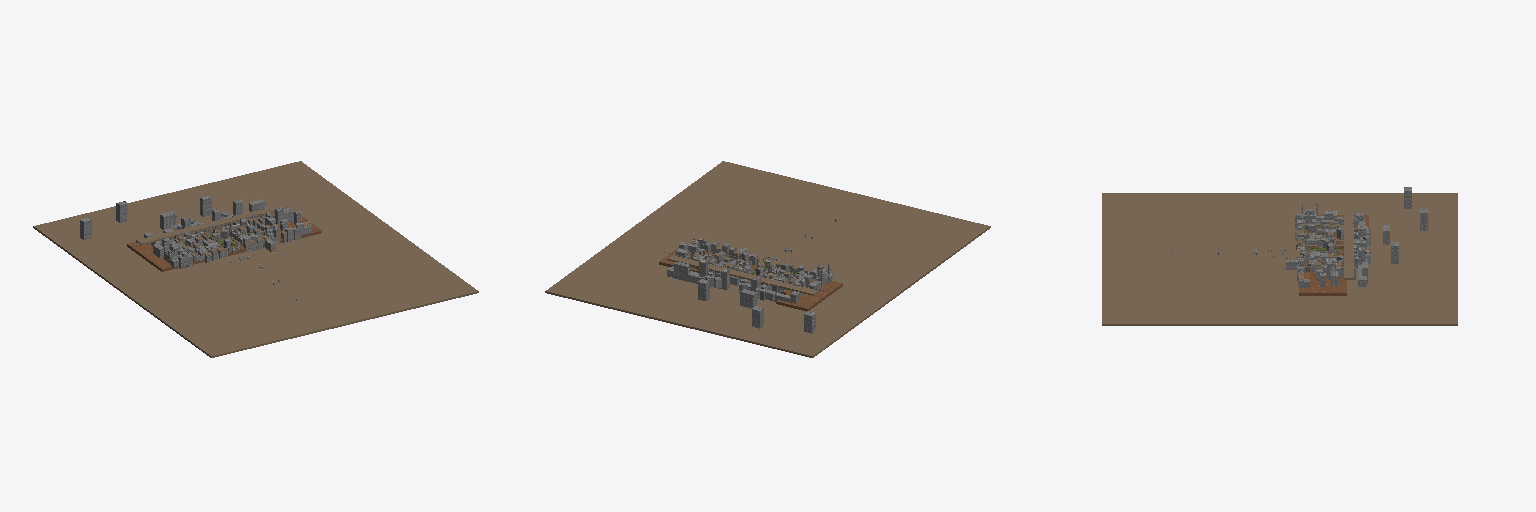
3 renders of one model, left to right at view 1: azimuth 30°, elevation 25°; view 2: azimuth 150°, elevation 25°; view 3: azimuth 270°, elevation 25°, orthographic.
Bounding box in the file's own units: 3370 × 460 × 3882.
886 materials, 5 textured.